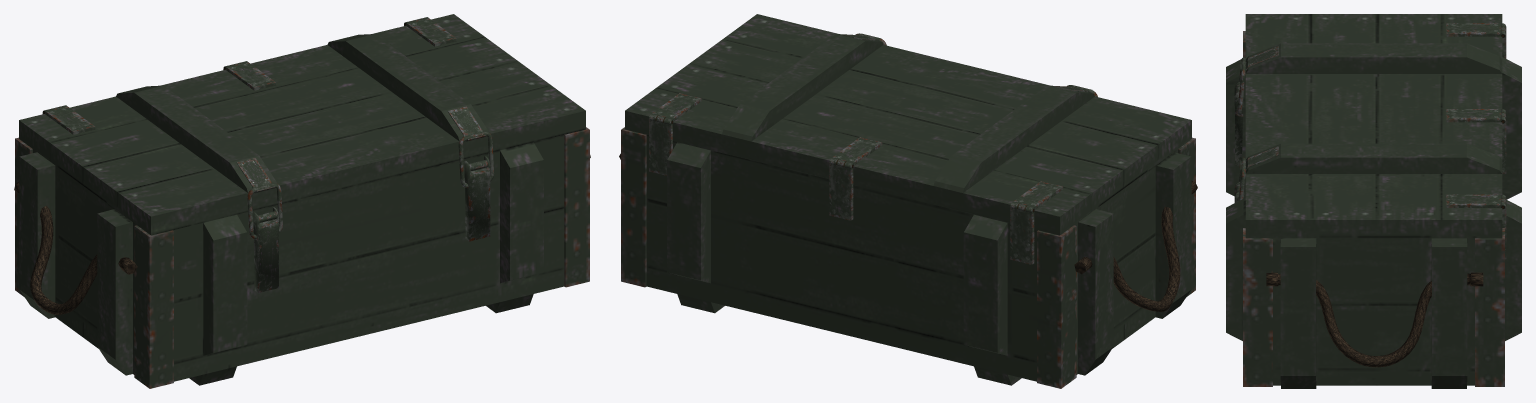
Rendered from ammo_box.glb.
The picture shows the model from 3 angles, left to right: view 1: azimuth 30°, elevation 25°; view 2: azimuth 150°, elevation 25°; view 3: azimuth 270°, elevation 25°; orthographic projection. The views are drawn at different scales.
Visible parts, largest first — view 1: Cube; view 2: Cube; view 3: Cube.
Boxes of the visible parts, x1,y1,x2,y2 form: Cube: (14,14,590,388); Cube: (619,14,1197,388); Cube: (1226,14,1521,388).
Bounding box in the file's own units: 112 × 41.01 × 56.16.
1 material, 1 textured.
